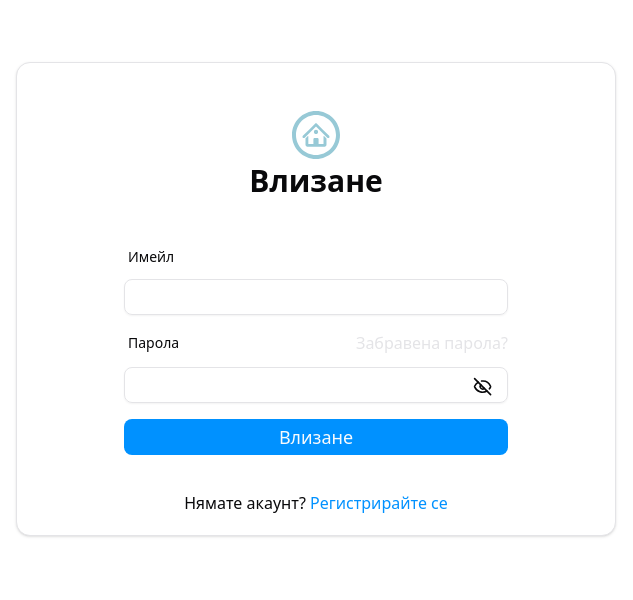
Test case: login page errors › shows the error for a 401 (wrong credentials) on the login page
Type "vesko@example.com" into the field labelled "Имейл" at (316, 297), box x1=124 y1=279 x2=508 y2=315
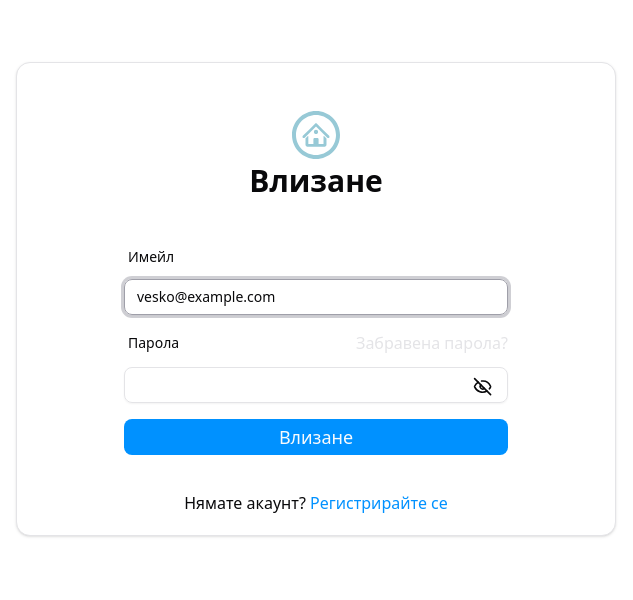
Type "a-password" into the password field labelled "Парола" at (316, 385), box x1=124 y1=367 x2=508 y2=403
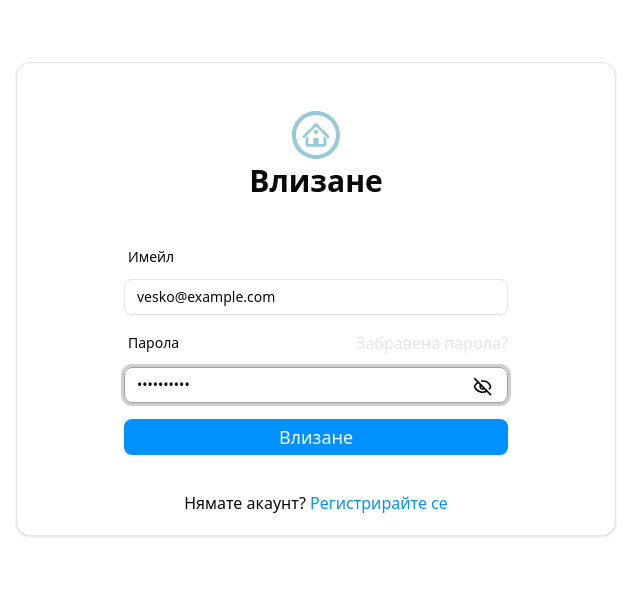
Click the button "Влизане" at (316, 437), box x1=124 y1=419 x2=508 y2=455
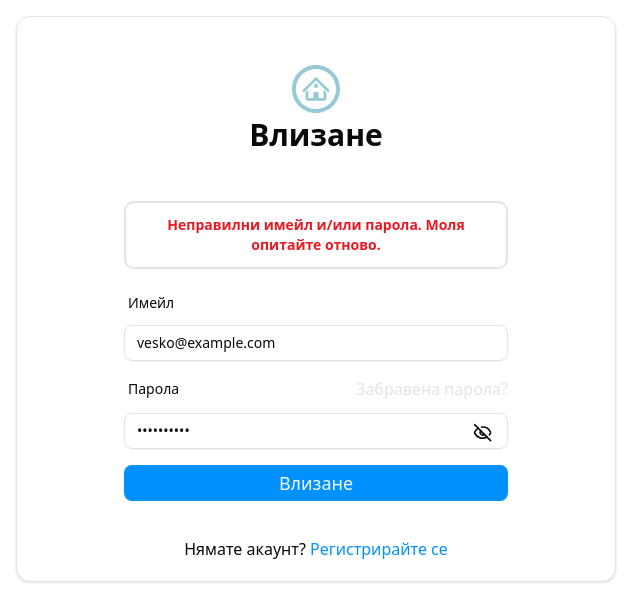
Expected: the button "Влизане" is enabled, x1=124 y1=465 x2=508 y2=501
Expected: the text "Неправилни имейл и/или парола. Моля опитайте отново." is shown, x1=142 y1=215 x2=490 y2=255
